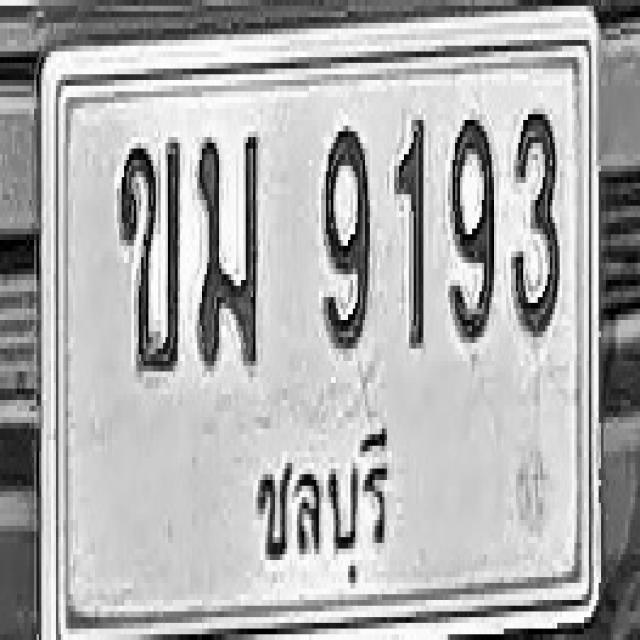1: (393, 114, 425, 349)
11KhorKhai: (118, 134, 181, 374)
3: (511, 109, 560, 337)
42MorMa: (196, 128, 259, 368)
9: (321, 120, 370, 349), (448, 111, 494, 340)
Chonburi: (245, 409, 398, 593)
